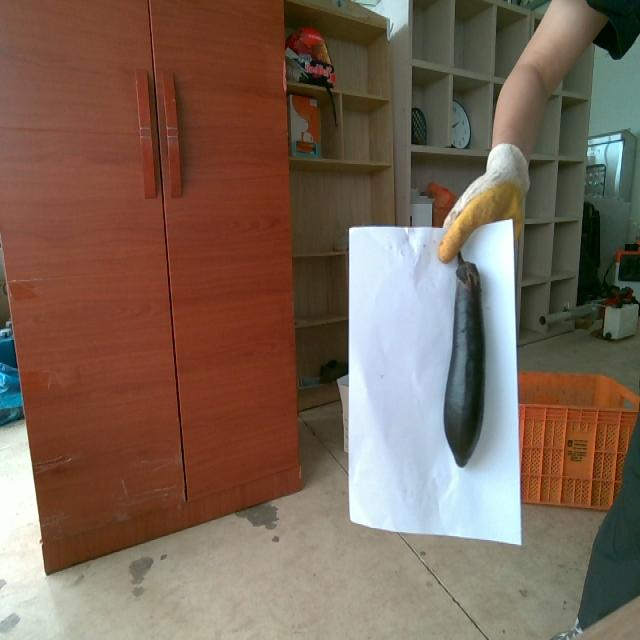Egg plant: (444, 253, 484, 465)
